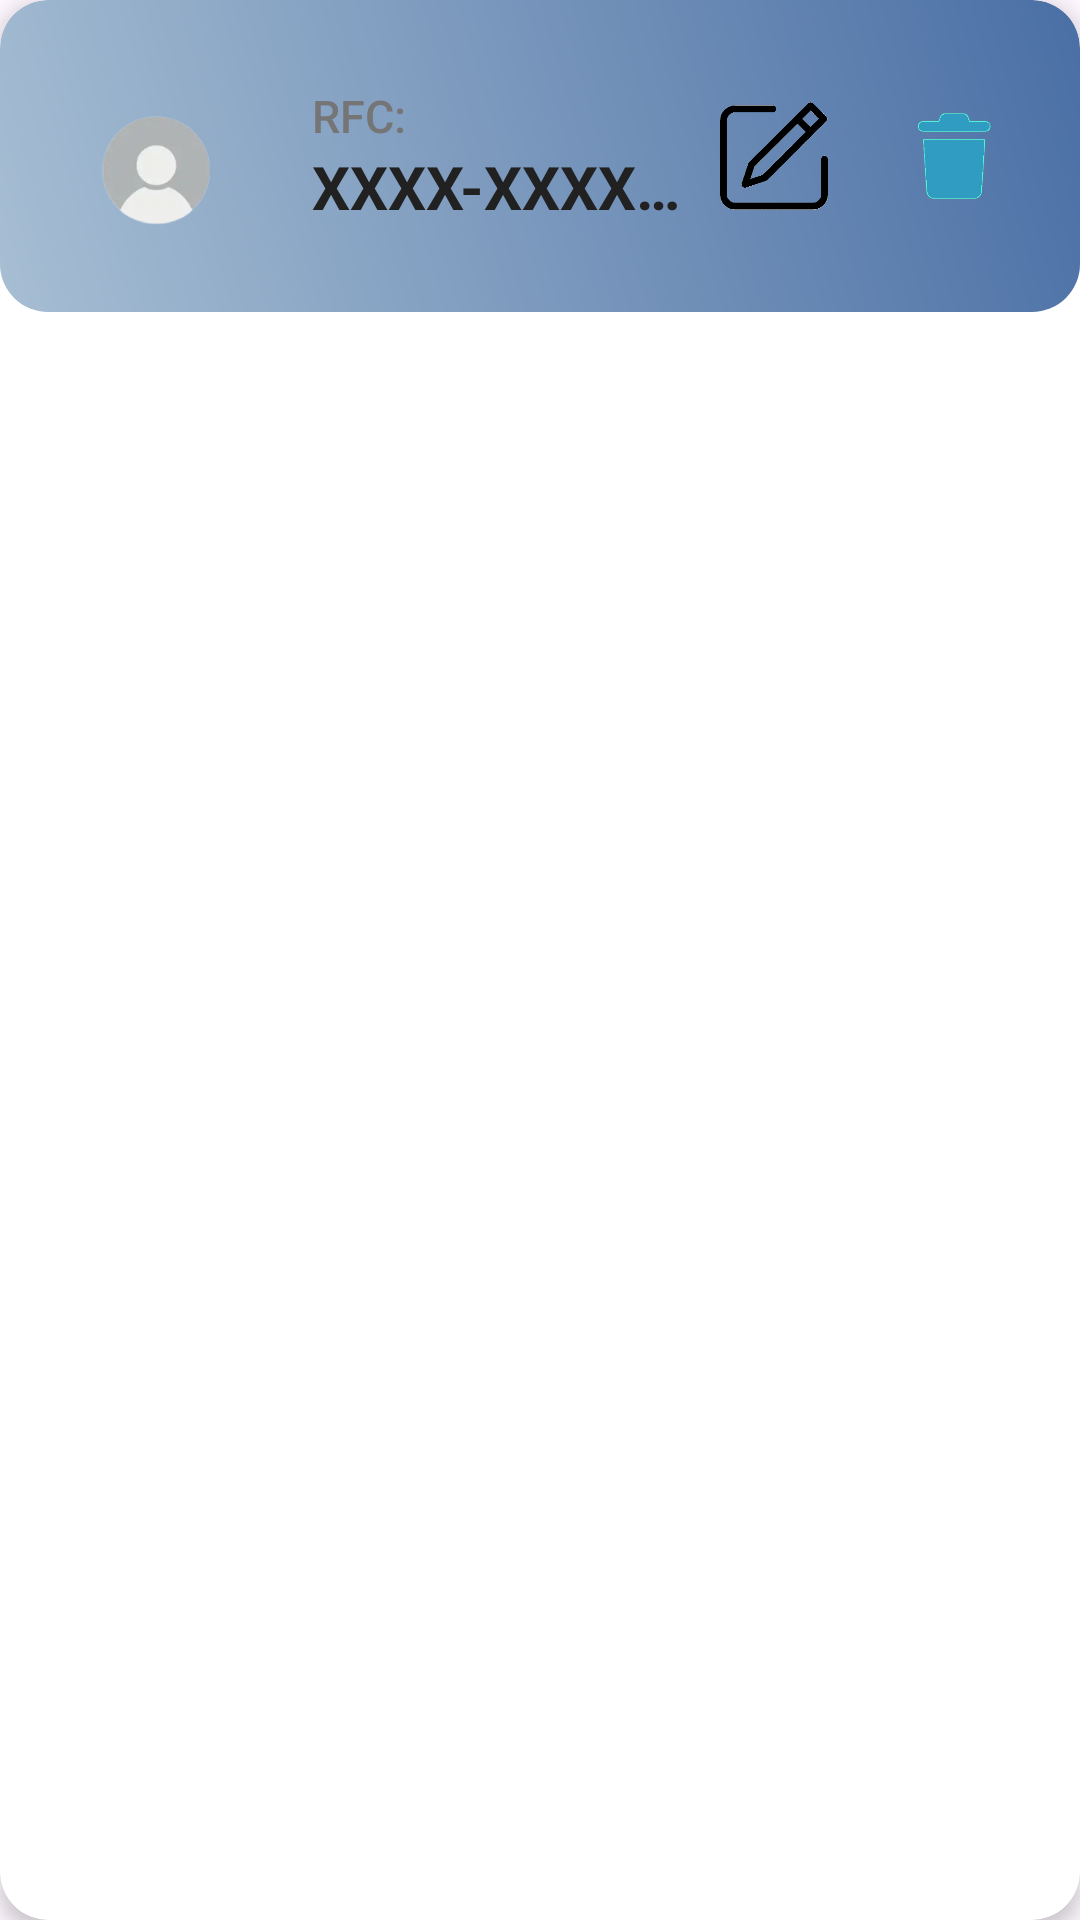

Where icons sit on this 1080×1920 app screen, as (x1, y1, x2, y2):
Editar RFC: (720, 102, 828, 210)
Eliminar RFC: (918, 113, 991, 199)
Icono de perfil o RFC: (103, 117, 209, 224)
